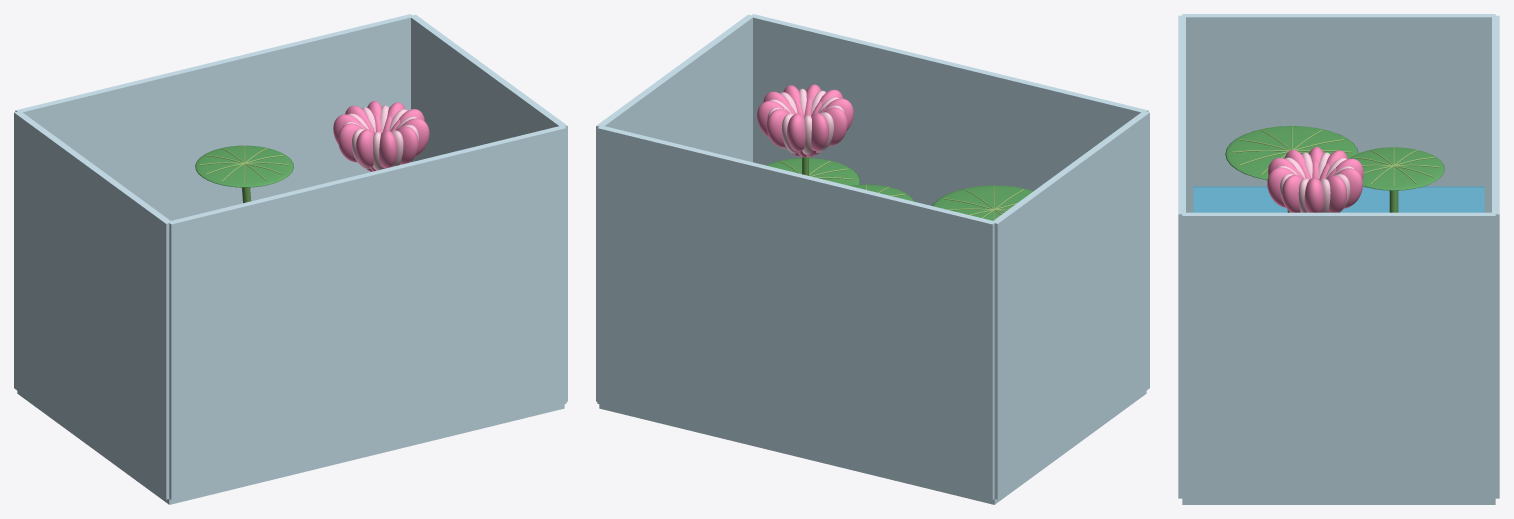
3 renders of one model, left to right at view 1: azimuth 30°, elevation 25°; view 2: azimuth 150°, elevation 25°; view 3: azimuth 270°, elevation 25°, orthographic. The views are drawn at different scales.
Visible parts, largest first — view 1: Front Glass Wall, Left Glass Wall, Back Glass Wall, Right Glass Wall, Medium Lotus Leaf, Tank Bottom, Lotus Petal.026; view 2: Back Glass Wall, Left Glass Wall, Front Glass Wall, Right Glass Wall, Tank Bottom, Large Lotus Leaf, Small Lotus Leaf, Lotus Petal.022; view 3: Right Glass Wall, Left Glass Wall, WaterSurface, Large Lotus Leaf, Front Glass Wall, Back Glass Wall, Medium Lotus Leaf, Tank Bottom, Lotus Petal.029, Lotus Petal.028, Lotus Petal.020, Lotus Petal.027 (+1 smaller).
Part boxes in pixels (bbox=[...]): Front Glass Wall: bbox=[168, 125, 566, 499]; Left Glass Wall: bbox=[14, 111, 170, 499]; Back Glass Wall: bbox=[15, 14, 413, 220]; Right Glass Wall: bbox=[410, 14, 567, 401]; Medium Lotus Leaf: bbox=[195, 145, 293, 187]; Tank Bottom: bbox=[17, 391, 564, 504]; Lotus Petal.026: bbox=[379, 130, 397, 168]; Back Glass Wall: bbox=[597, 125, 995, 499]; Left Glass Wall: bbox=[993, 111, 1149, 499]; Front Glass Wall: bbox=[750, 14, 1148, 205]; Right Glass Wall: bbox=[596, 14, 752, 401]; Tank Bottom: bbox=[599, 391, 1146, 504]; Large Lotus Leaf: bbox=[932, 185, 1033, 220]; Small Lotus Leaf: bbox=[766, 158, 859, 185]; Lotus Petal.022: bbox=[787, 113, 805, 151]; Right Glass Wall: bbox=[1182, 212, 1495, 500]; Left Glass Wall: bbox=[1182, 14, 1495, 212]; WaterSurface: bbox=[1193, 186, 1484, 212]; Large Lotus Leaf: bbox=[1225, 126, 1358, 180]; Front Glass Wall: bbox=[1178, 15, 1185, 498]; Back Glass Wall: bbox=[1492, 15, 1499, 498]; Medium Lotus Leaf: bbox=[1349, 147, 1444, 190]; Tank Bottom: bbox=[1182, 500, 1495, 504]; Lotus Petal.029: bbox=[1304, 178, 1324, 212]; Lotus Petal.028: bbox=[1282, 175, 1302, 212]; Lotus Petal.020: bbox=[1327, 175, 1347, 212]; Lotus Petal.027: bbox=[1267, 167, 1294, 207].
Size of the model in its own units: 6.1 by 4.09 by 4.1.
